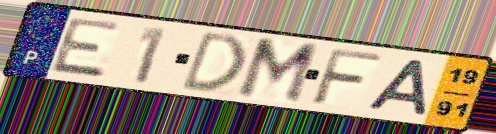1: (135, 26, 170, 86)
A: (363, 57, 430, 118)
D: (177, 29, 249, 93)
E: (47, 16, 126, 81)
F: (307, 46, 386, 108)
M: (233, 36, 323, 107)
